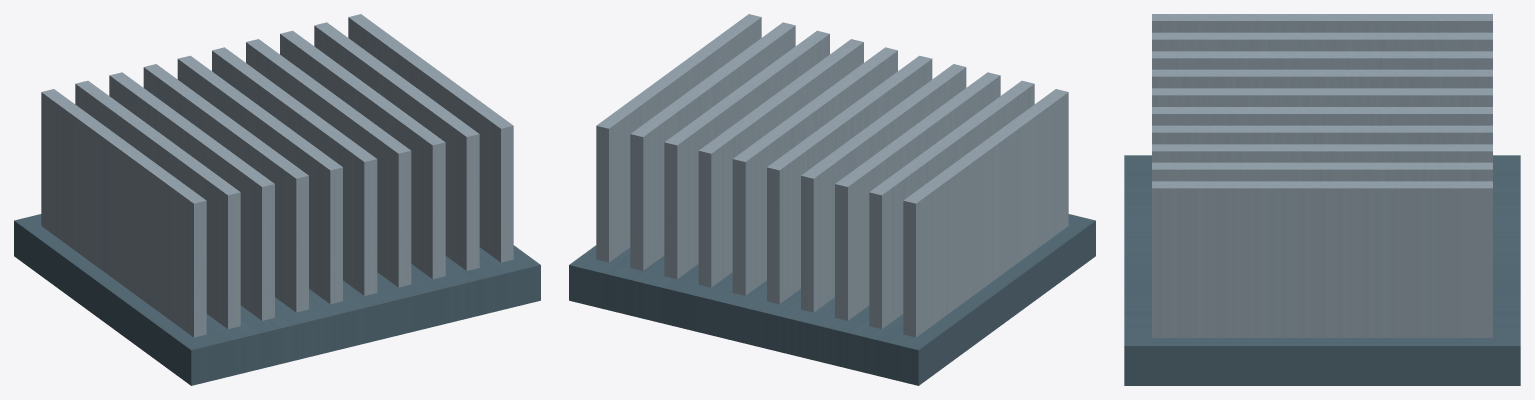
Rendered from 299_L120_AxisB_Heatsink.obj.
3 renders of one model, left to right at view 1: azimuth 30°, elevation 25°; view 2: azimuth 150°, elevation 25°; view 3: azimuth 270°, elevation 25°, orthographic. The views are drawn at different scales.
Parts seen in each view (by area): view 1: 299_L120_AxisB_Heatsink; view 2: 299_L120_AxisB_Heatsink; view 3: 299_L120_AxisB_Heatsink.
Boxes of the visible parts, x1,y1,x2,y2 form: 299_L120_AxisB_Heatsink: [14, 14, 540, 385]; 299_L120_AxisB_Heatsink: [569, 14, 1095, 385]; 299_L120_AxisB_Heatsink: [1124, 14, 1520, 385].
Size of the model in its own units: 0.041 by 0.019 by 0.036.
Materials: 2 (2 with a texture image).
